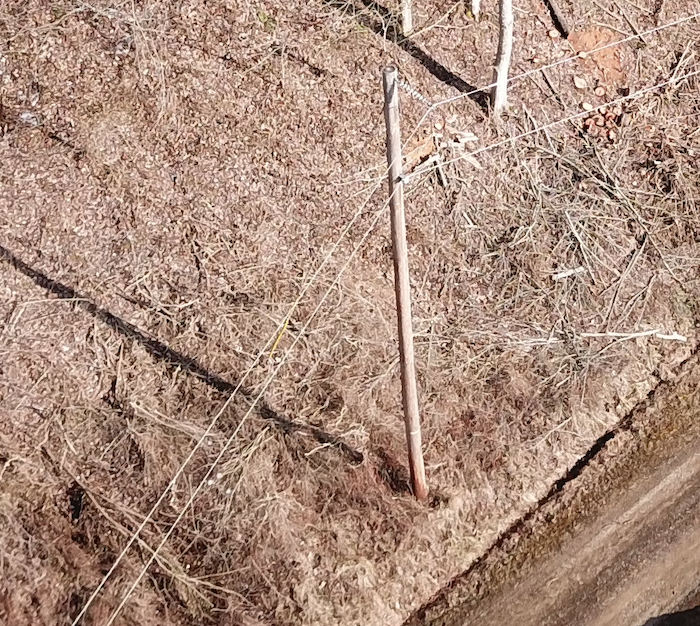pole: (351, 53, 449, 503)
